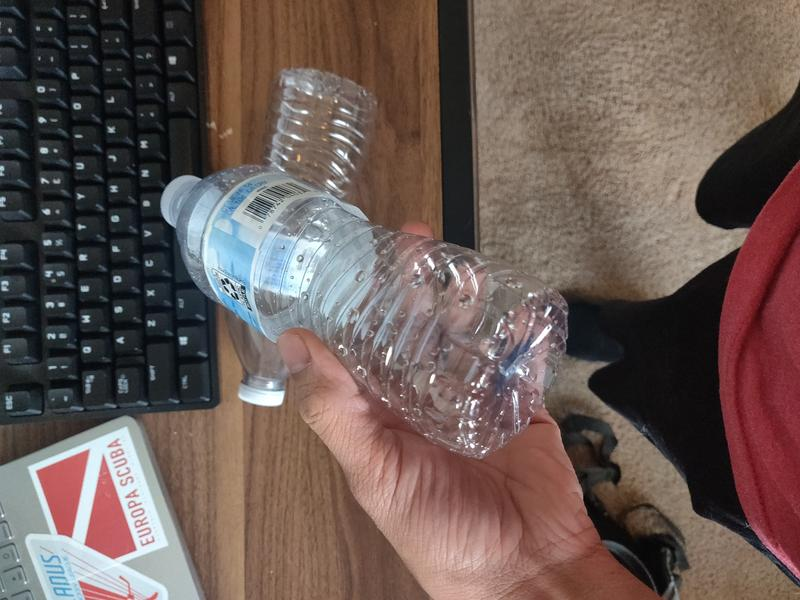bottle: (159, 165, 569, 458), (238, 69, 375, 408)
